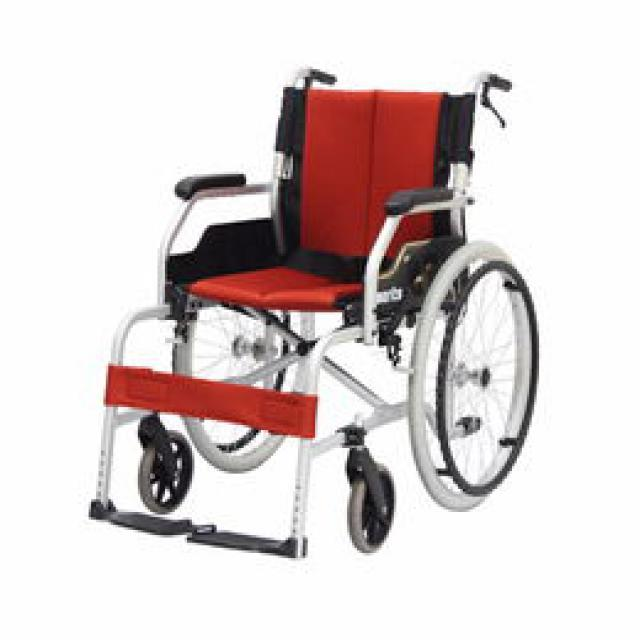wheelchair: (76, 64, 542, 561)
